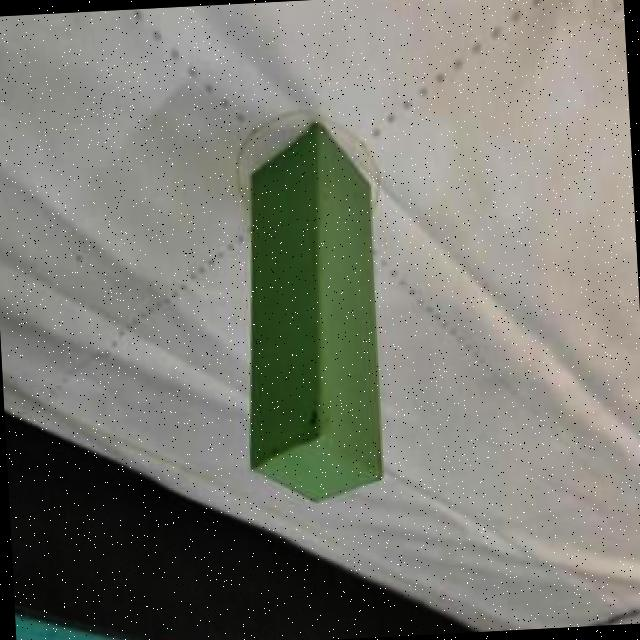greenbox: (230, 122, 385, 509)
